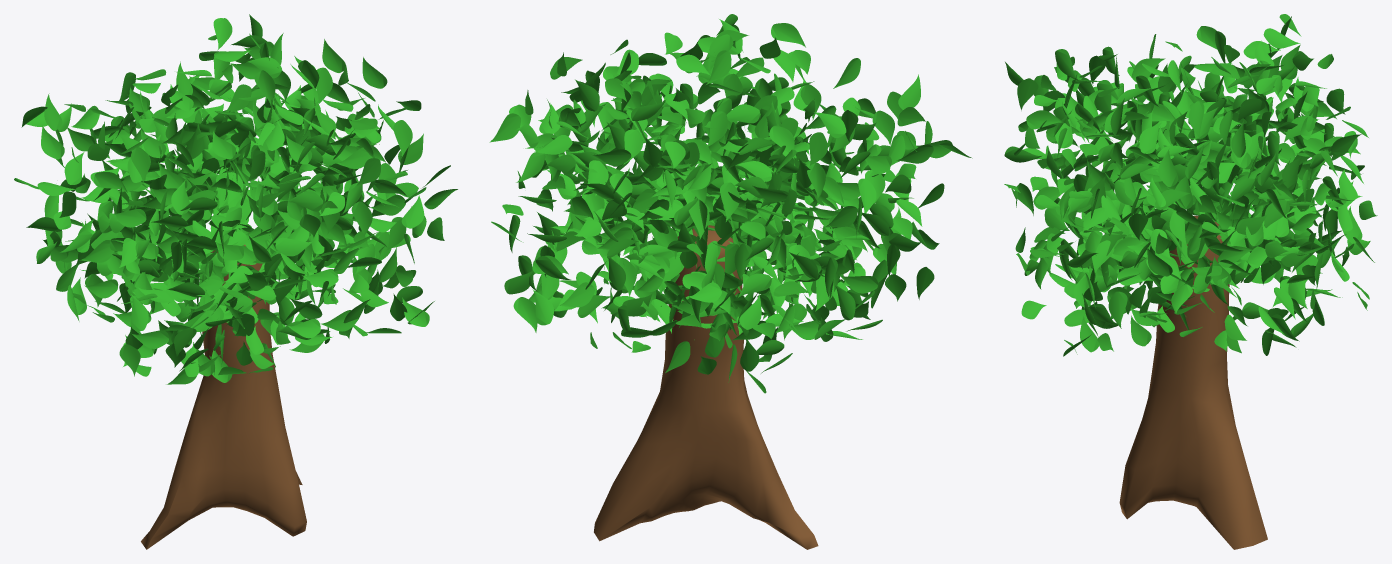
Rendered from tree 2.fbx.
3 views of the same model, side by side, from view 1: azimuth 30°, elevation 25°; view 2: azimuth 150°, elevation 25°; view 3: azimuth 270°, elevation 25° (orthographic). The views are drawn at different scales.
Visible parts, largest first — view 1: tree_2; view 2: tree_2; view 3: tree_2.
Part boxes in pixels (left/top/right/bottom): tree_2: left=14, top=14, right=457, bottom=549; tree_2: left=489, top=14, right=972, bottom=549; tree_2: left=1004, top=14, right=1377, bottom=549.
Size of the model in its own units: 710 by 802 by 615.
